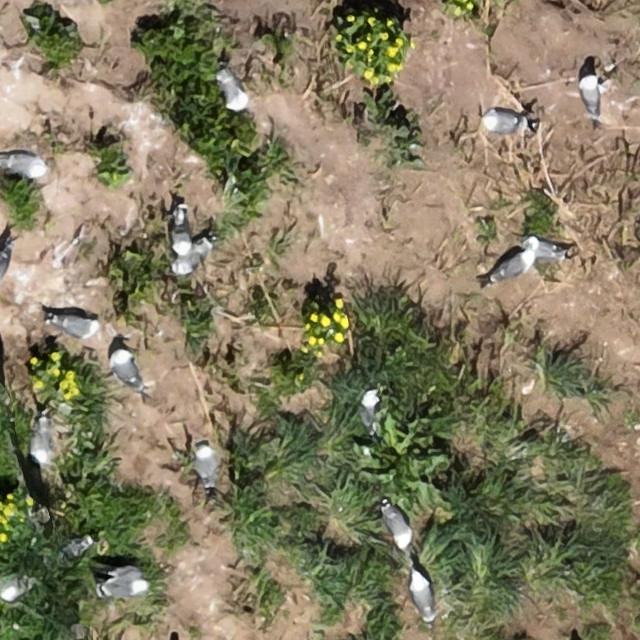umineko: (98, 569, 152, 602), (384, 506, 412, 546), (411, 573, 434, 617), (220, 73, 248, 109), (113, 352, 140, 388), (494, 253, 534, 277), (54, 314, 97, 336), (4, 154, 45, 177), (195, 446, 216, 486), (174, 249, 206, 275), (33, 418, 51, 462), (582, 76, 600, 116), (486, 114, 523, 133), (529, 239, 559, 259), (361, 390, 376, 424), (0, 251, 7, 282)
